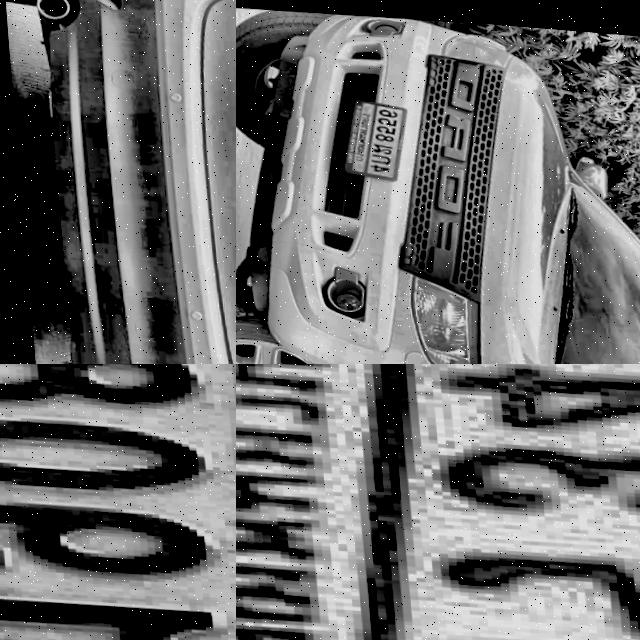license-plate: (236, 364, 640, 640), (0, 364, 236, 640), (335, 91, 413, 178)
